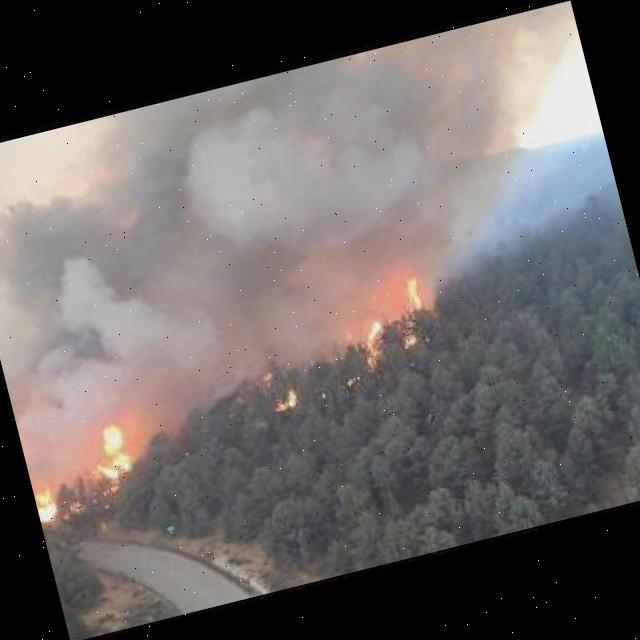fire: (0, 0, 638, 438), (80, 420, 143, 490), (387, 266, 435, 344), (32, 475, 74, 529), (361, 319, 392, 363), (270, 389, 302, 414)
